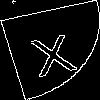X: (25, 24, 78, 78)
